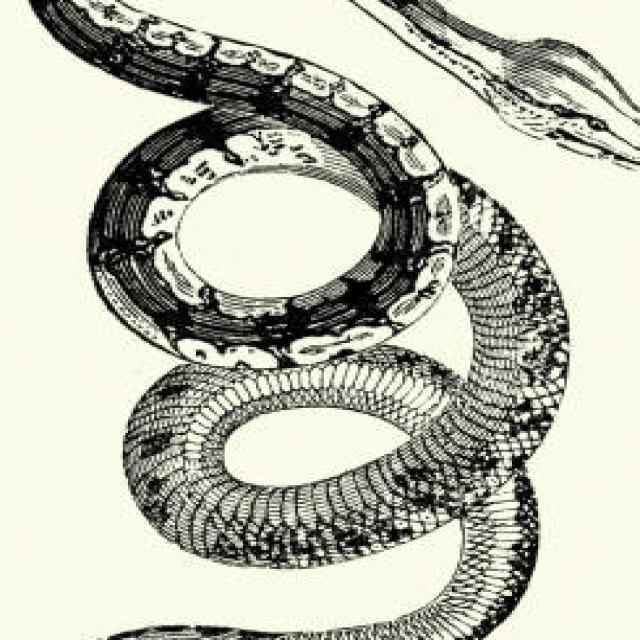snake: (18, 0, 640, 640)
